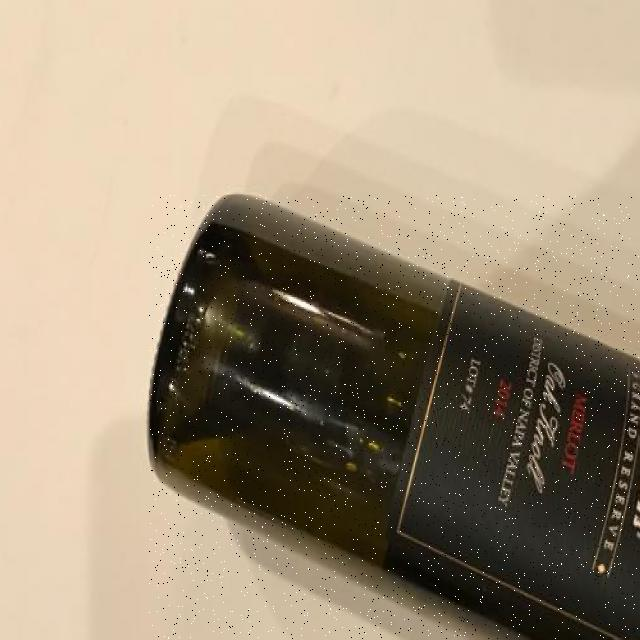glass: (150, 196, 639, 639)
